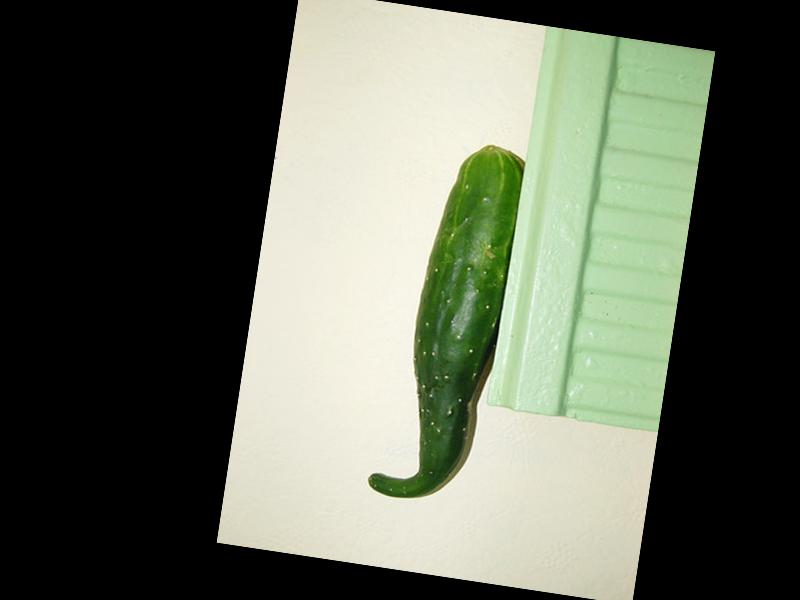Cucumber: (367, 135, 527, 510)
